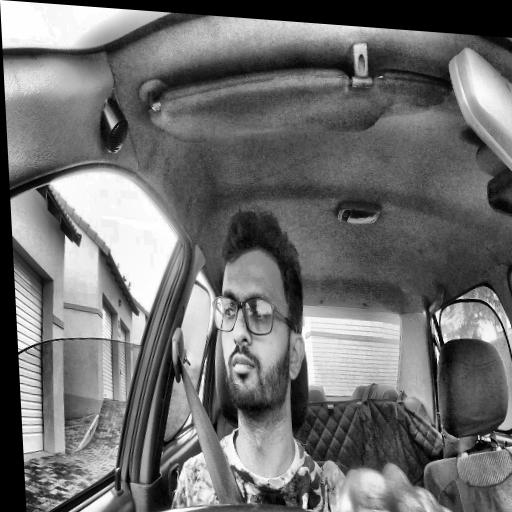awake: (207, 205, 310, 420)
